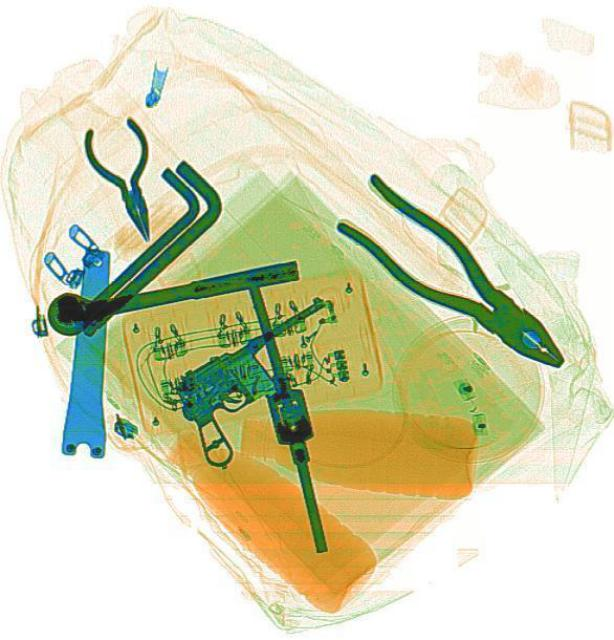Gun: (158, 292, 374, 470)
Pliers: (322, 167, 585, 391), (75, 112, 178, 248)
